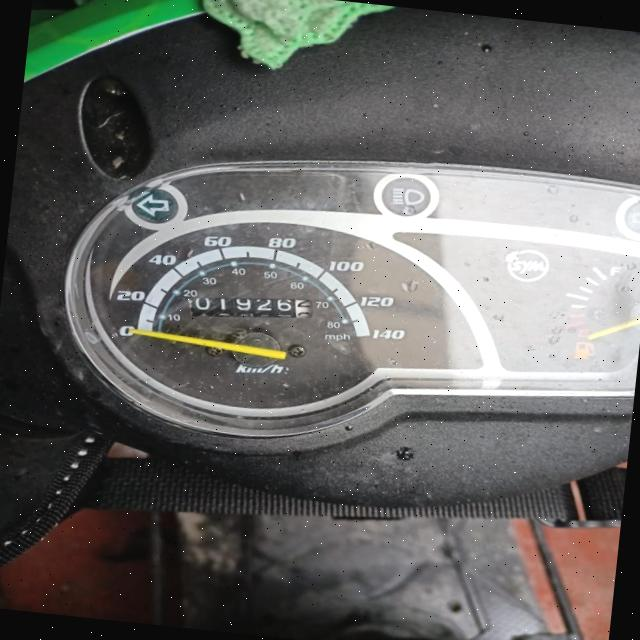odometer: (188, 286, 316, 329)
